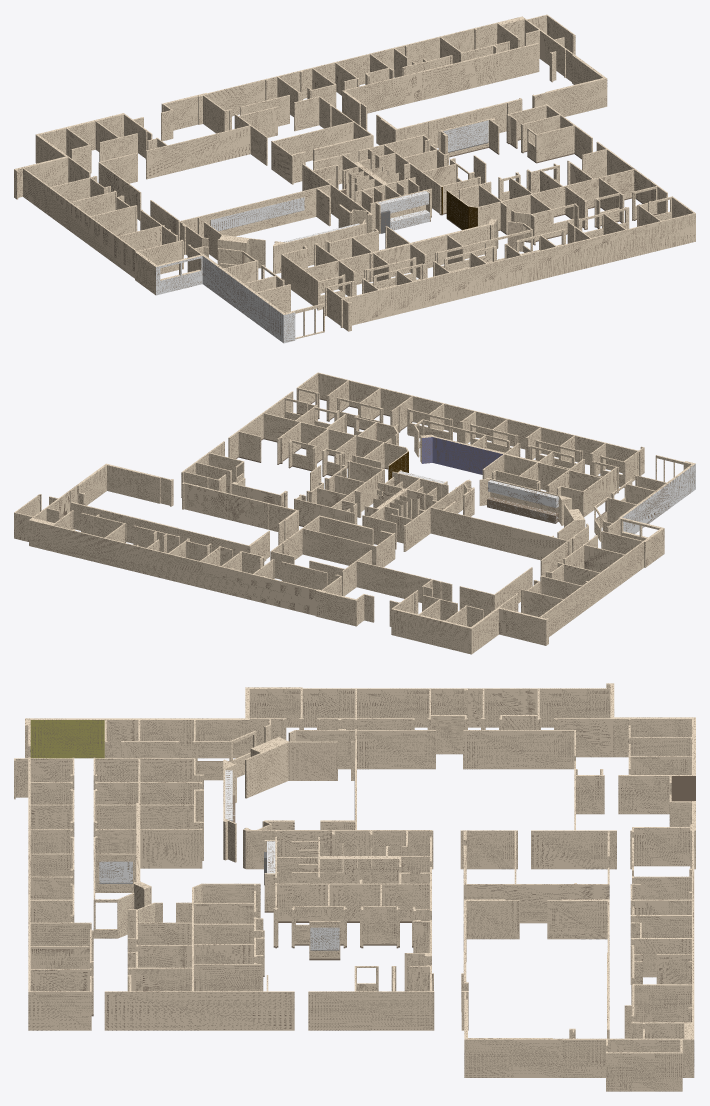
Rendered from willowgarage_collision.dae.
3 views of the same model, one above another, from view 1: azimuth 30°, elevation 25°; view 2: azimuth 150°, elevation 25°; view 3: azimuth 270°, elevation 25° (orthographic). The views are drawn at different scales.
Parts seen in each view (by area): view 1: SketchUp (×24); view 2: SketchUp (×23); view 3: SketchUp (×21).
Boxes of the visible parts, x1,y1,x2,y2 form: SketchUp (×24): (14, 14, 695, 343); SketchUp (×23): (14, 372, 695, 654); SketchUp (×21): (14, 683, 695, 1091).
Size of the model in its own units: 2308 by 1798 by 112.
